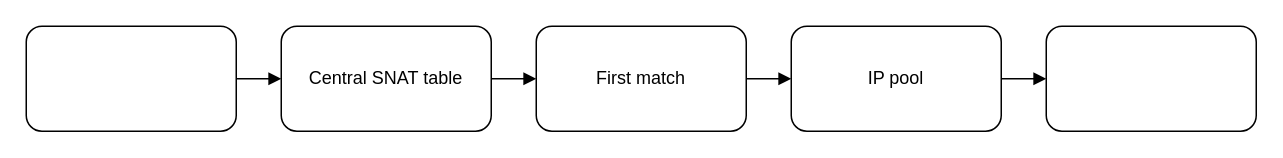
The diagram is 1283 pixels wide and 158 high, and some of its shapes have lost their labels. Each missing label, with the centre of its shape:
Egress session: [1150,78]
Firewall policy: [130,78]
